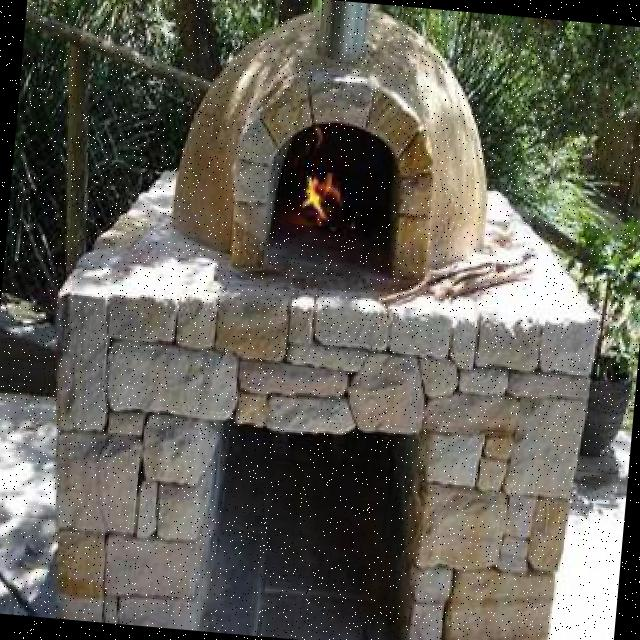fire: (280, 168, 342, 228)
